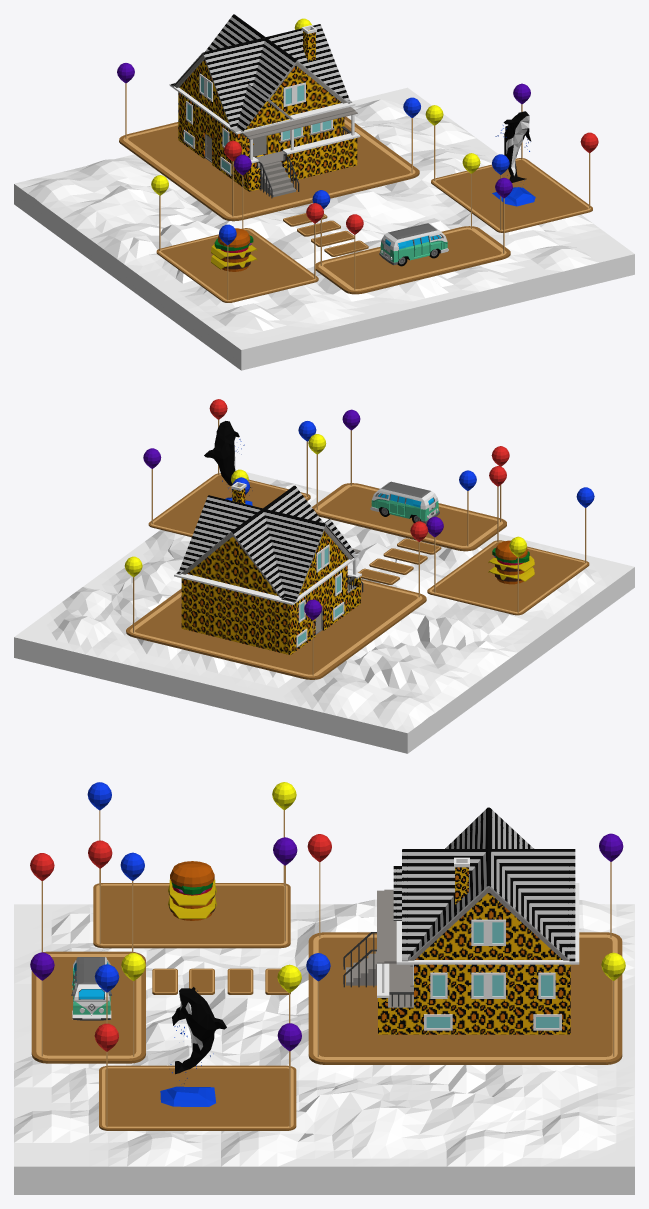
3 renders of one model, top to bottom at view 1: azimuth 30°, elevation 25°; view 2: azimuth 150°, elevation 25°; view 3: azimuth 270°, elevation 25°, orthographic. The views are drawn at different scales.
Visible parts, largest first — view 1: Cube.013, Cube.637, VEHICLES_VAN, ANIMAL_ORCA, OBJRANDOM_HAMBURGER; view 2: Cube.013, Cube.637, VEHICLES_VAN, OBJRANDOM_HAMBURGER, ANIMAL_ORCA; view 3: Cube.013, Cube.637, ANIMAL_ORCA, OBJRANDOM_HAMBURGER, VEHICLES_VAN.
Boxes of the visible parts, bbox=[...] form: Cube.013: bbox=[14, 18, 634, 370]; Cube.637: bbox=[169, 14, 360, 198]; VEHICLES_VAN: bbox=[379, 223, 448, 266]; ANIMAL_ORCA: bbox=[492, 111, 535, 206]; OBJRANDOM_HAMBURGER: bbox=[211, 228, 257, 271]; Cube.013: bbox=[14, 399, 634, 753]; Cube.637: bbox=[174, 482, 363, 655]; VEHICLES_VAN: bbox=[370, 481, 439, 523]; OBJRANDOM_HAMBURGER: bbox=[488, 540, 534, 584]; ANIMAL_ORCA: bbox=[204, 421, 252, 505]; Cube.013: bbox=[14, 782, 634, 1194]; Cube.637: bbox=[343, 807, 579, 1034]; ANIMAL_ORCA: bbox=[160, 987, 226, 1106]; OBJRANDOM_HAMBURGER: bbox=[168, 861, 216, 920]; VEHICLES_VAN: bbox=[71, 957, 111, 1020].
Size of the model in its own units: 4000 by 1711 by 4000.
36 materials, 3 textured.
